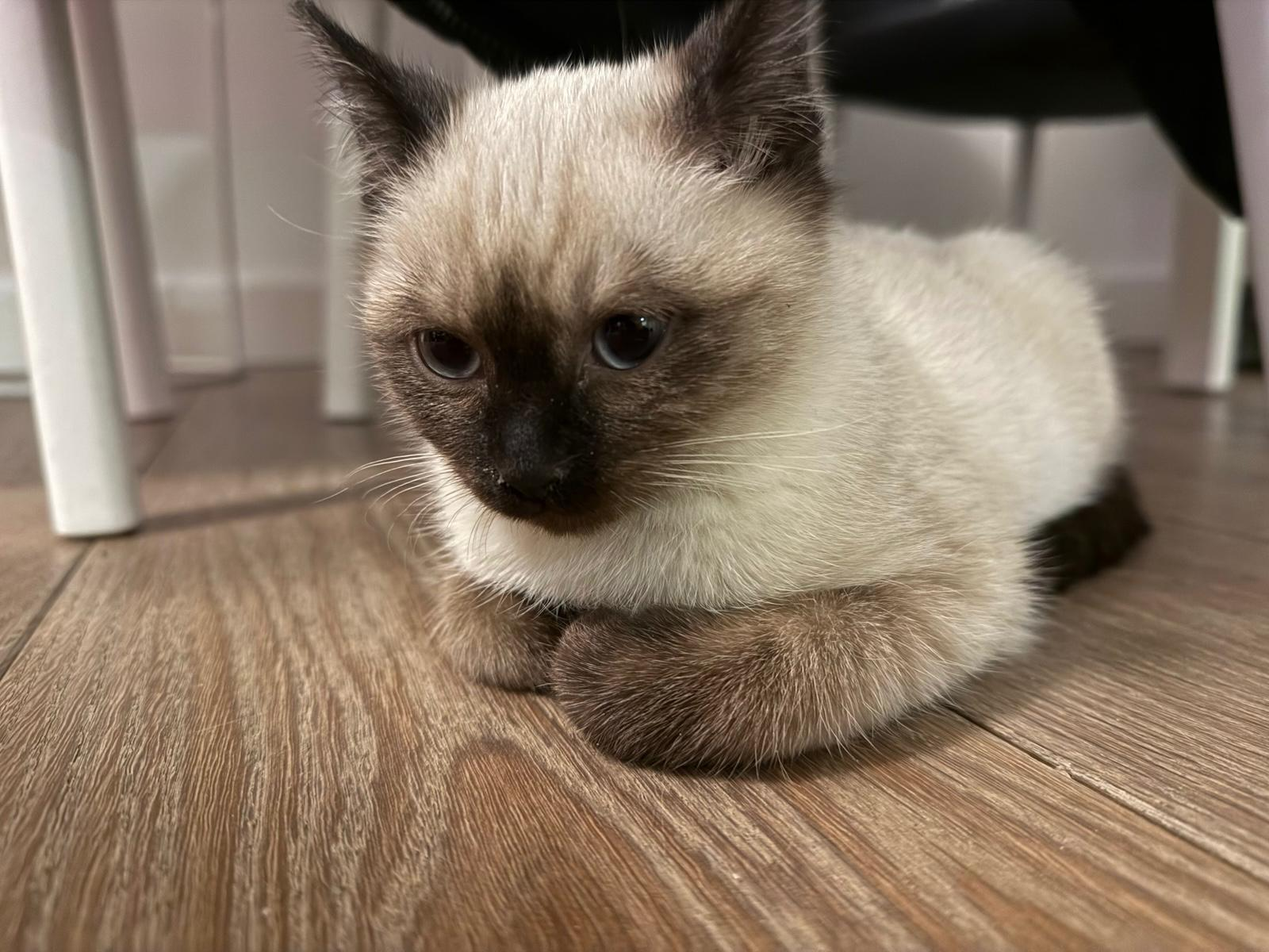macka: (291, 0, 1160, 776)
